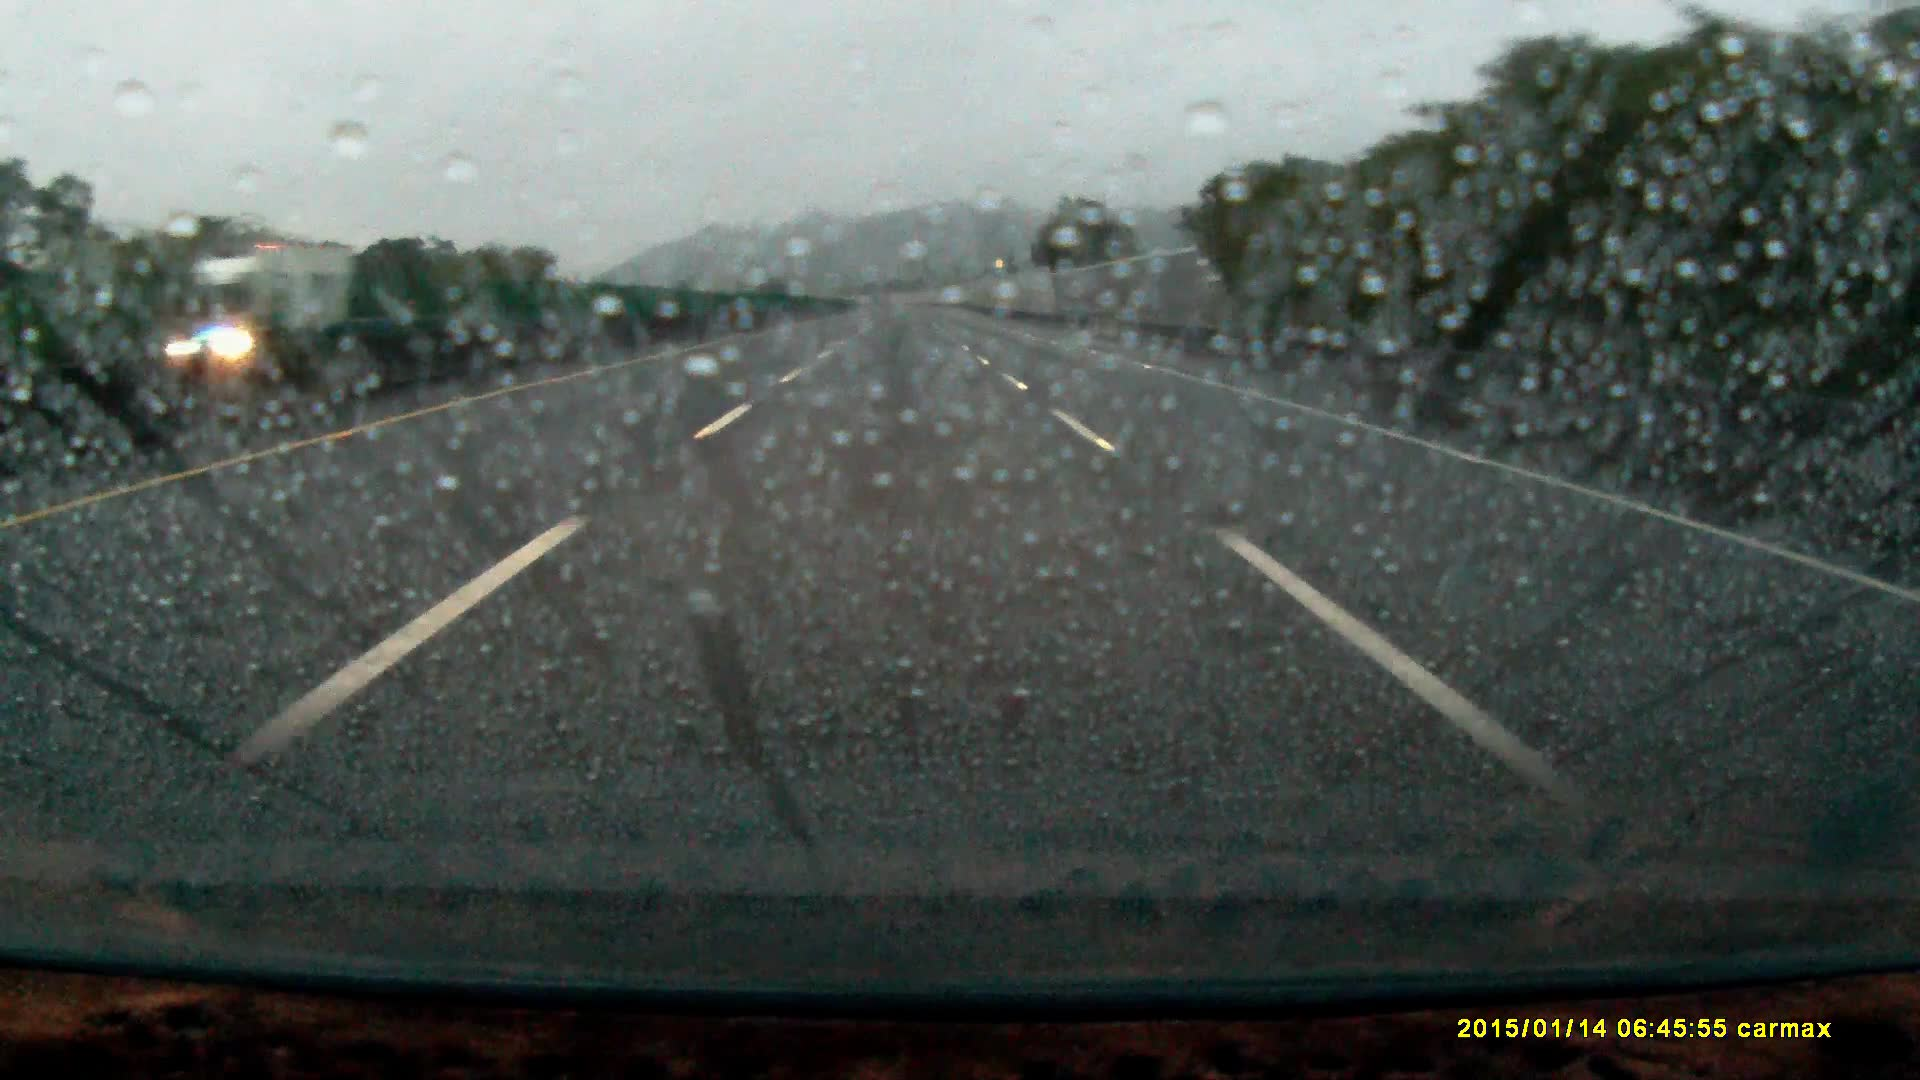vehicle: (167, 241, 363, 392)
